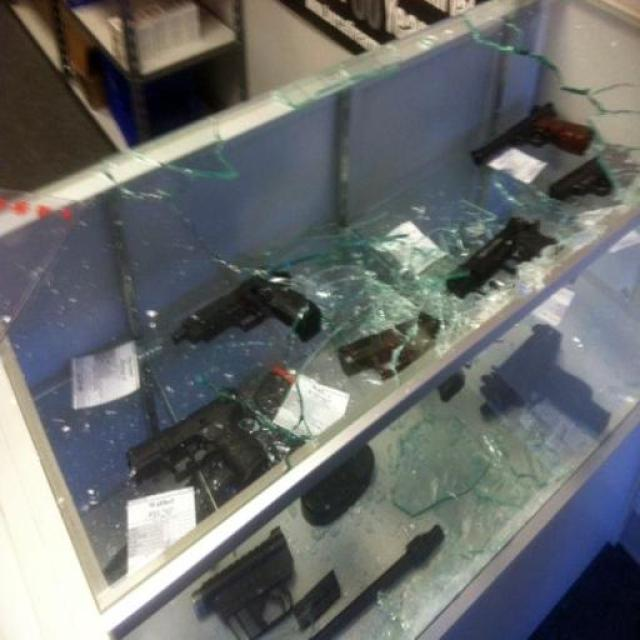pistol: (173, 266, 324, 356), (120, 394, 267, 483), (462, 97, 600, 165), (345, 308, 455, 383), (435, 216, 560, 281), (537, 155, 630, 191)
